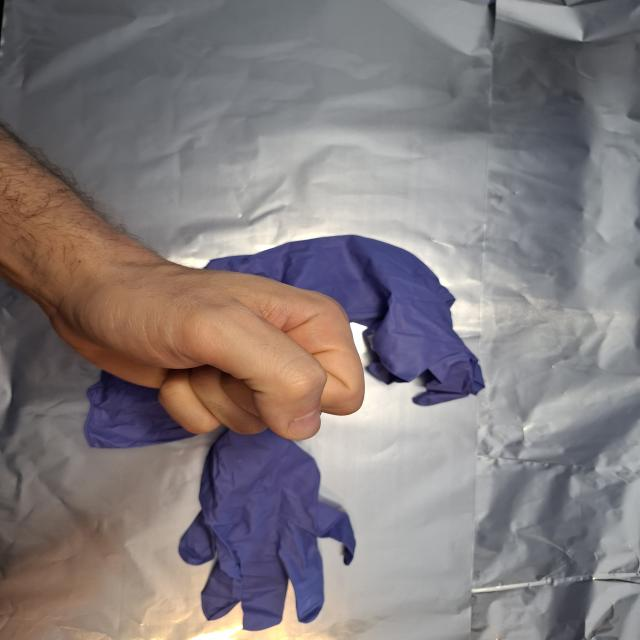glove_off: (44, 261, 368, 442)
